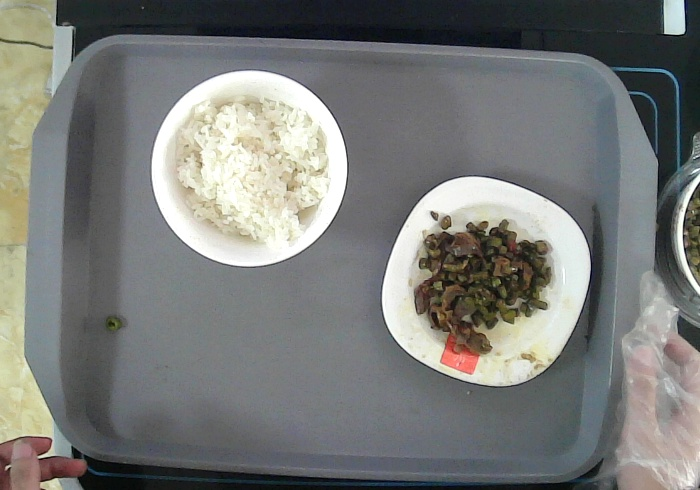SHKJ-Bai_Se_Si_Fang_Cai_Die: (378, 173, 592, 387)
SHKJ-Fan_Wan: (148, 67, 351, 268)
